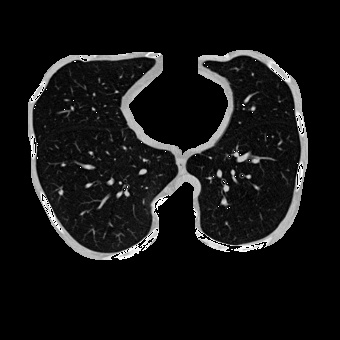PN: (58, 190, 62, 194)
